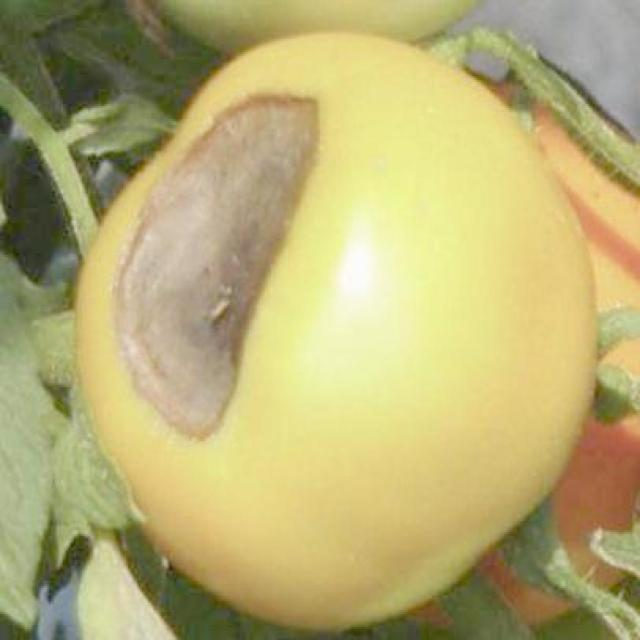Blossom End Rot Fruit: (60, 51, 227, 309)
